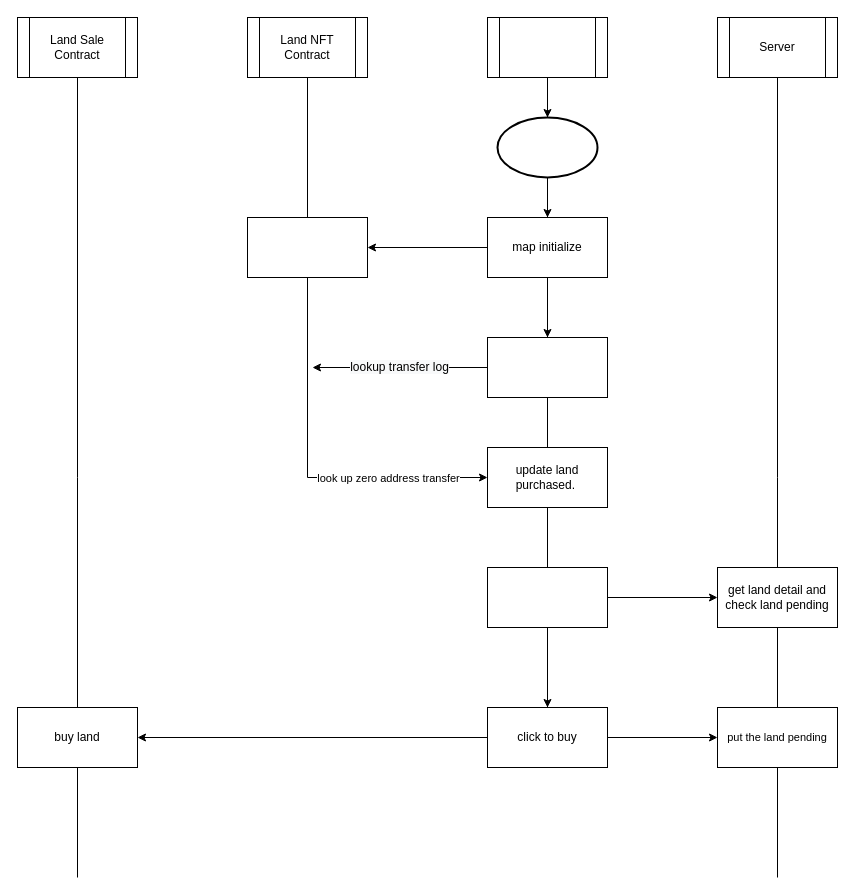
This 855x896 diagram has some shape labels left out. Each missing label, with the box of its shape:
click to land: (486, 566, 608, 628)
connect web3: (496, 116, 598, 178)
event log subscribe (transfer): (486, 336, 608, 398)
get map: (246, 216, 368, 278)
User: (486, 16, 608, 78)
